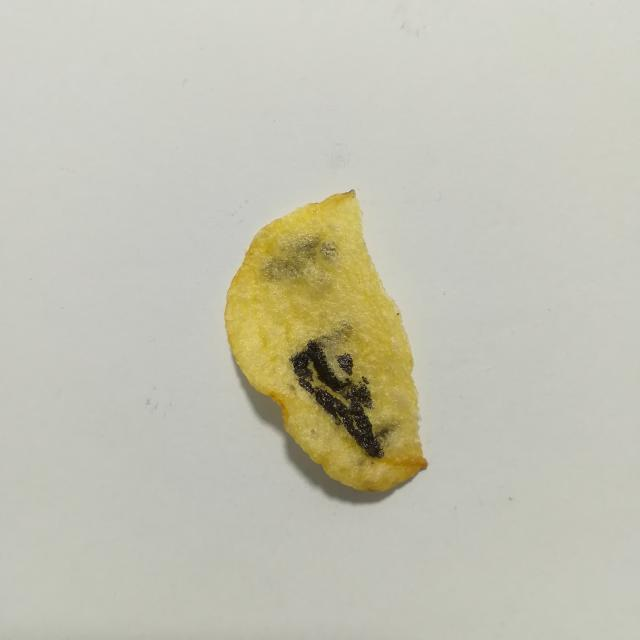chip: (224, 191, 427, 491)
damaged: (290, 340, 383, 458), (338, 353, 353, 375)
semi-damaged: (262, 234, 331, 286), (314, 321, 353, 383), (372, 422, 397, 449), (320, 243, 337, 261)
